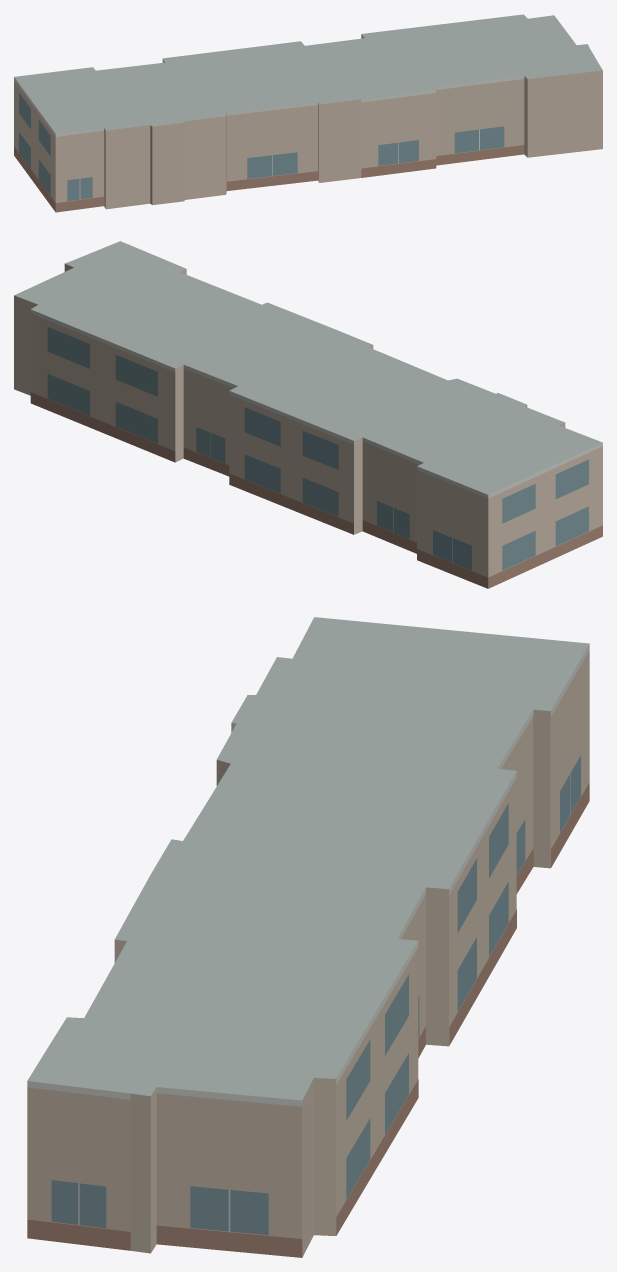
The model's file is survey-upis-32752696.glb.
The picture shows the model from 3 angles, top to bottom: view 1: azimuth 30°, elevation 25°; view 2: azimuth 150°, elevation 25°; view 3: azimuth 270°, elevation 25°; orthographic projection. The views are drawn at different scales.
Parts seen in each view (by area): view 1: survey-upis-32752696.tmp; view 2: survey-upis-32752696.tmp; view 3: survey-upis-32752696.tmp.
Part boxes in pixels (x1=…): survey-upis-32752696.tmp: x1=14, y1=14, x2=602, y2=212; survey-upis-32752696.tmp: x1=14, y1=241, x2=602, y2=588; survey-upis-32752696.tmp: x1=27, y1=617, x2=589, y2=1257.
Bounding box in the file's own units: 40.24 × 6.1 × 19.78.
